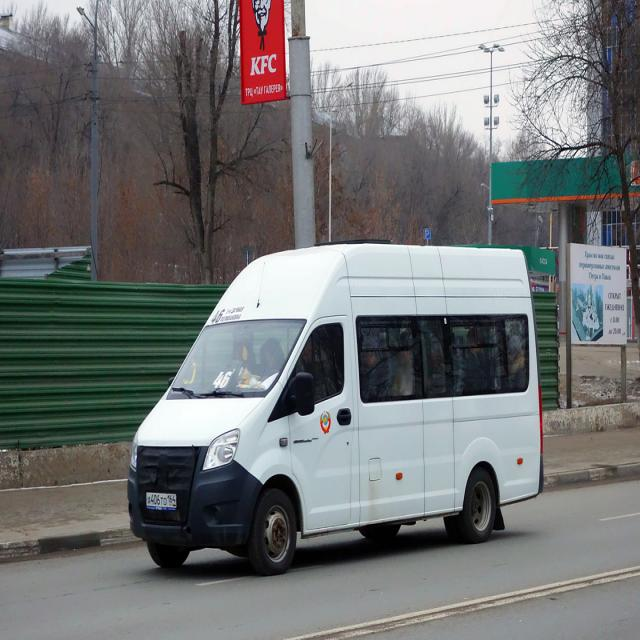number-of-bus: (212, 370, 235, 391), (211, 310, 227, 325)
